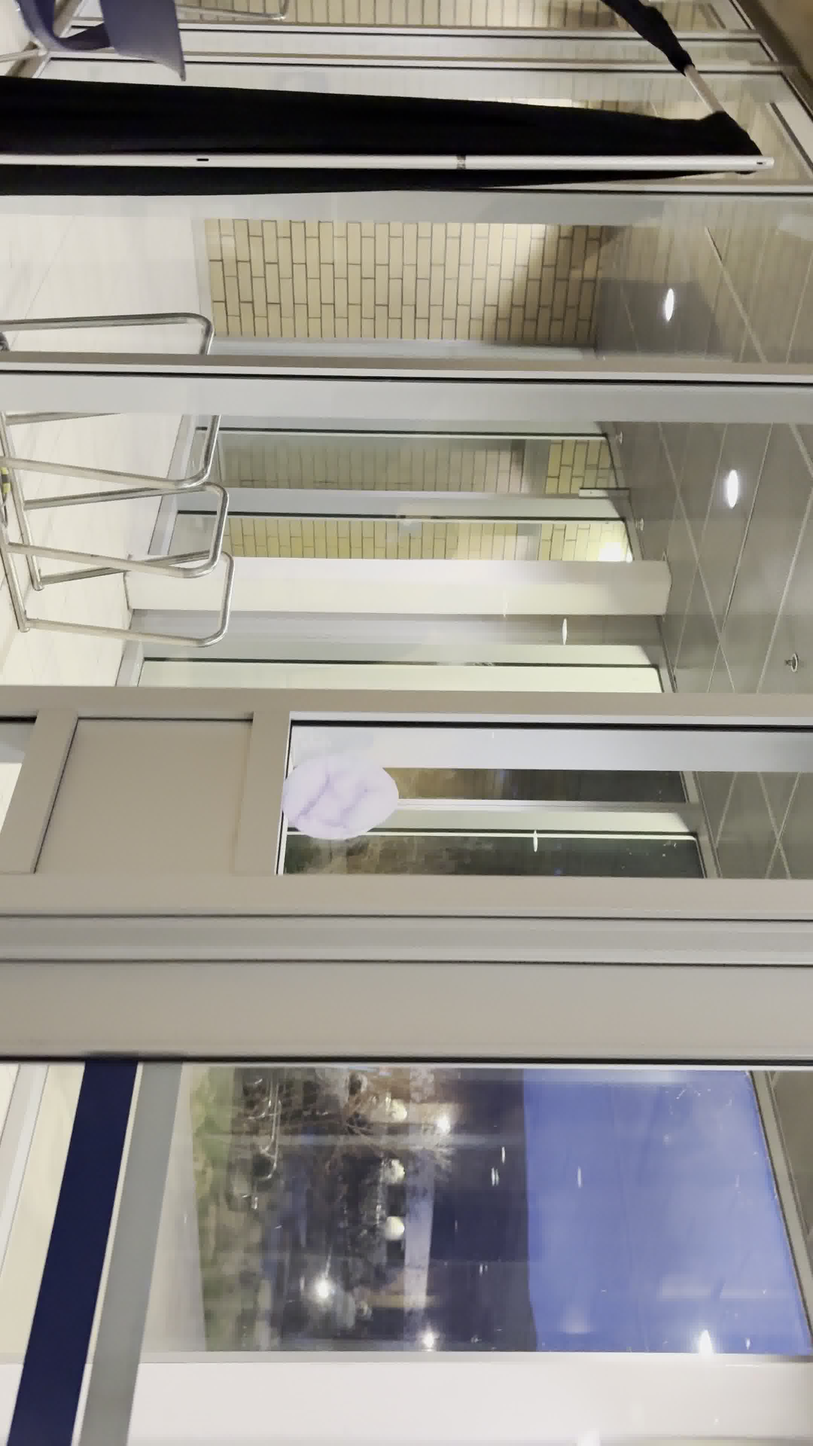Target: (280, 752, 400, 842)
